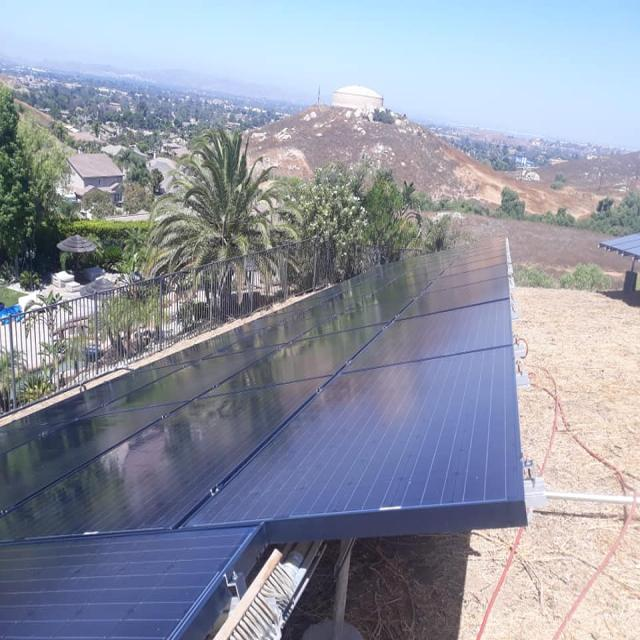clean-solar-panel: (1, 238, 526, 638)
